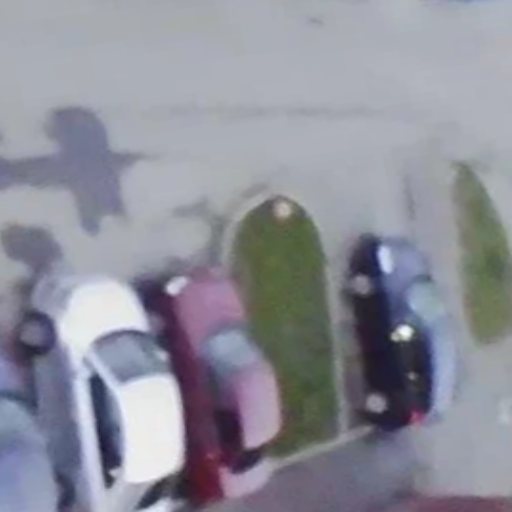Car: (16, 273, 186, 511), (149, 267, 275, 496), (348, 233, 454, 431)
